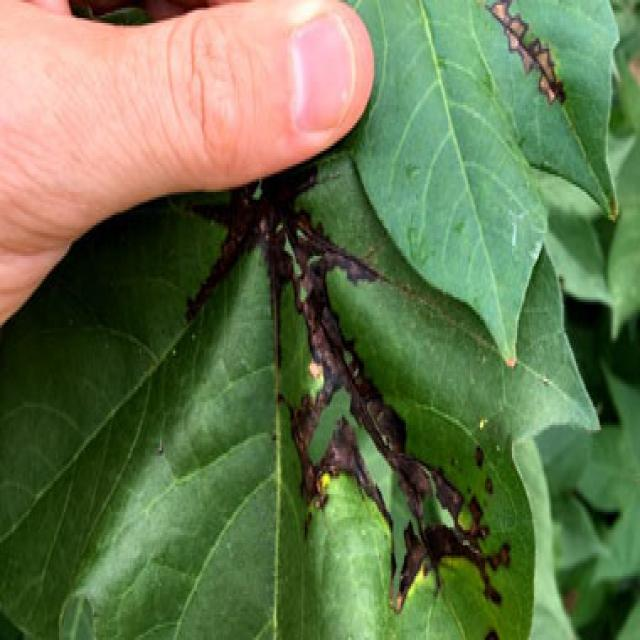Bacterial Blight: (266, 192, 516, 619)
